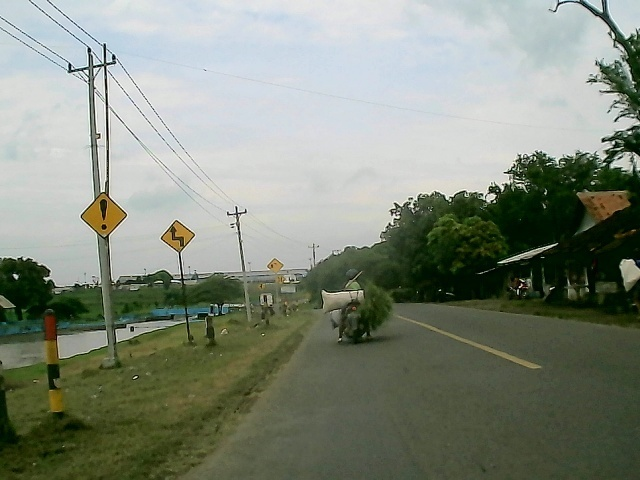Hati-hati: (72, 189, 132, 242)
Peringatan tepi air: (265, 256, 284, 272)
Tikungan garda pertama kiri: (159, 218, 196, 254)
